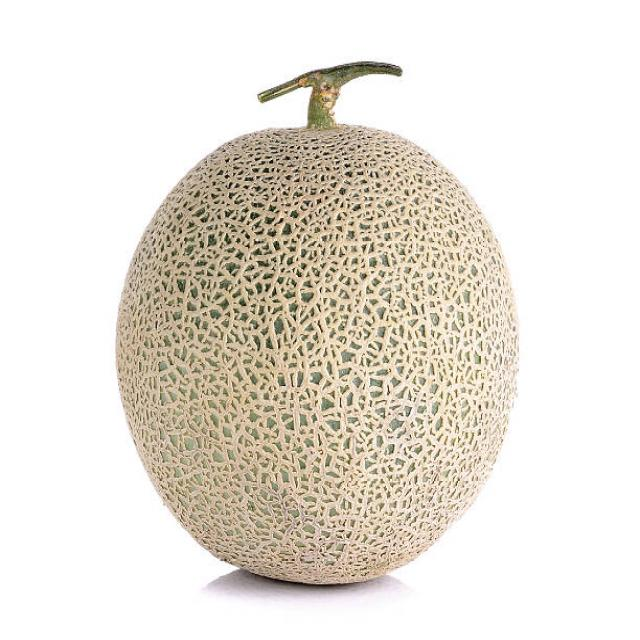melon: (112, 68, 523, 592)
